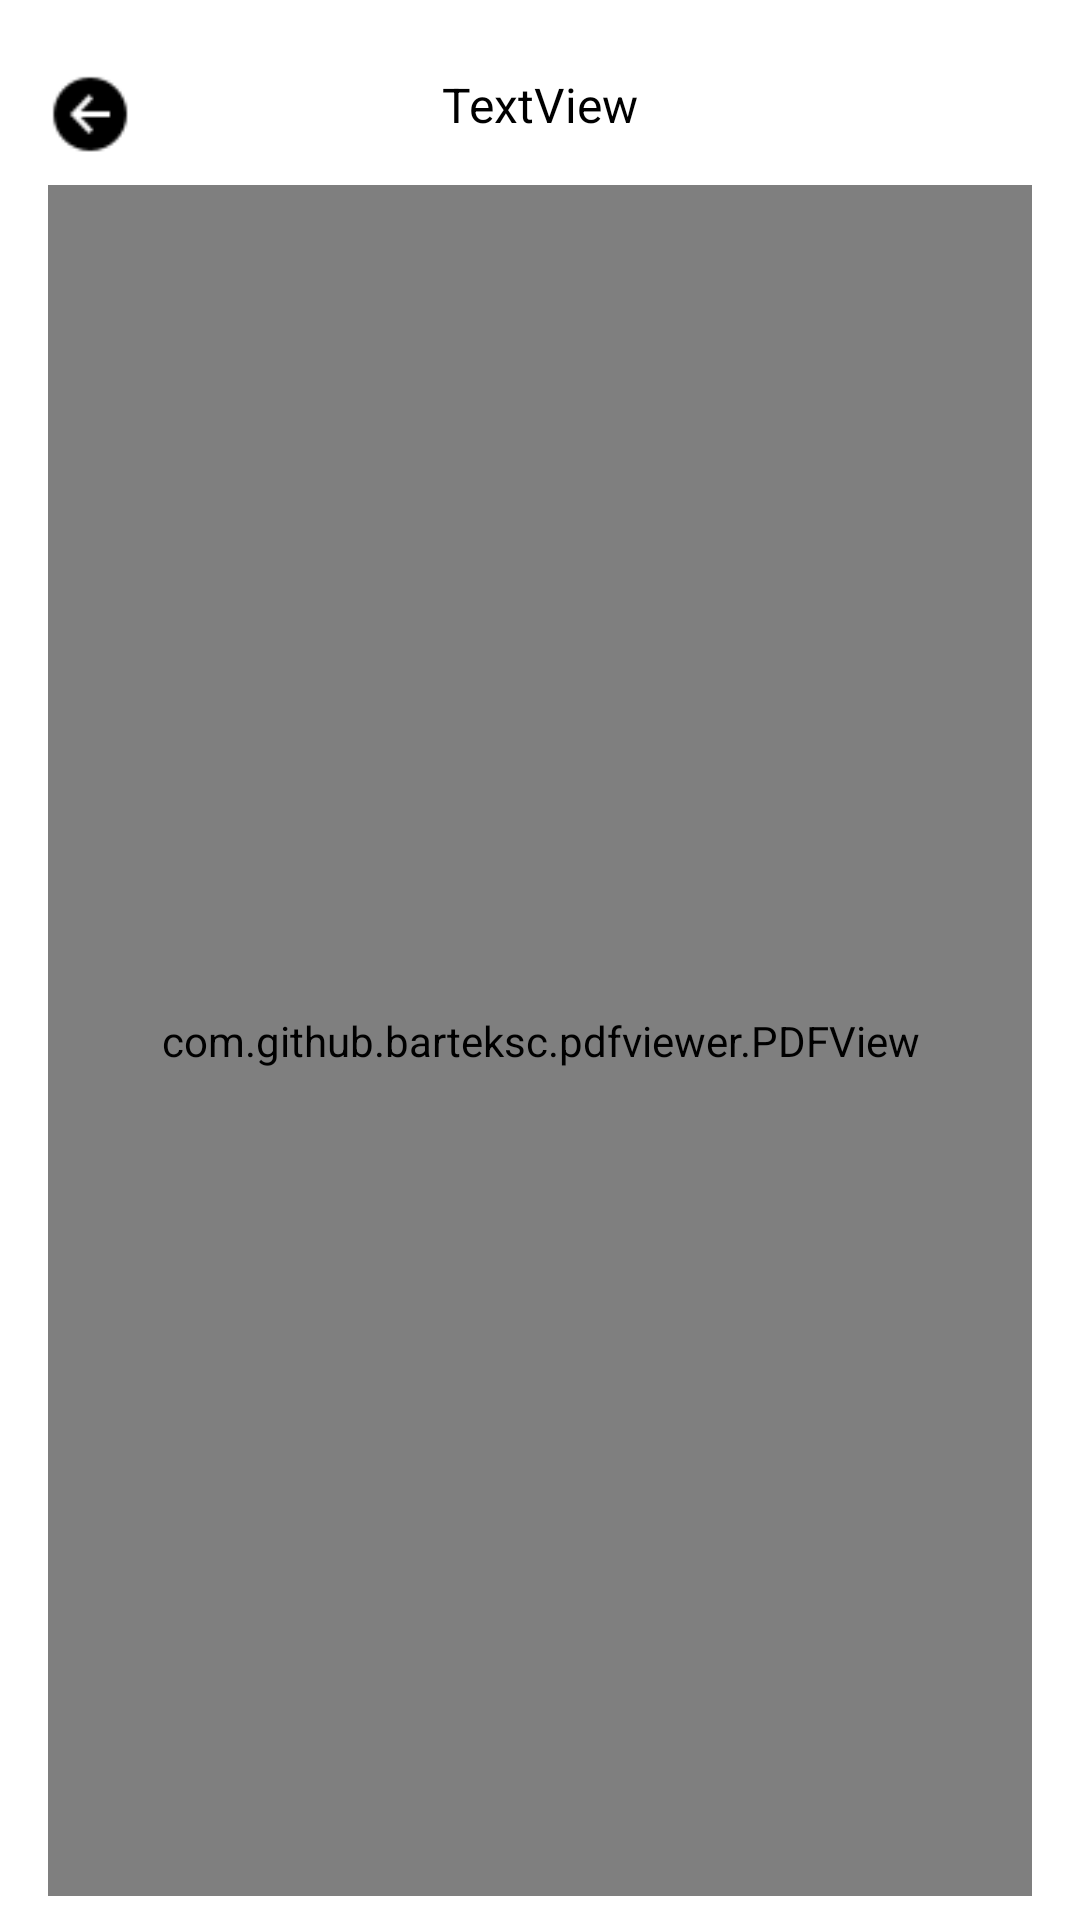

Icon click points for this 1080x1920 phone screenshot, format [x,y]:
arrow: [90,114]
